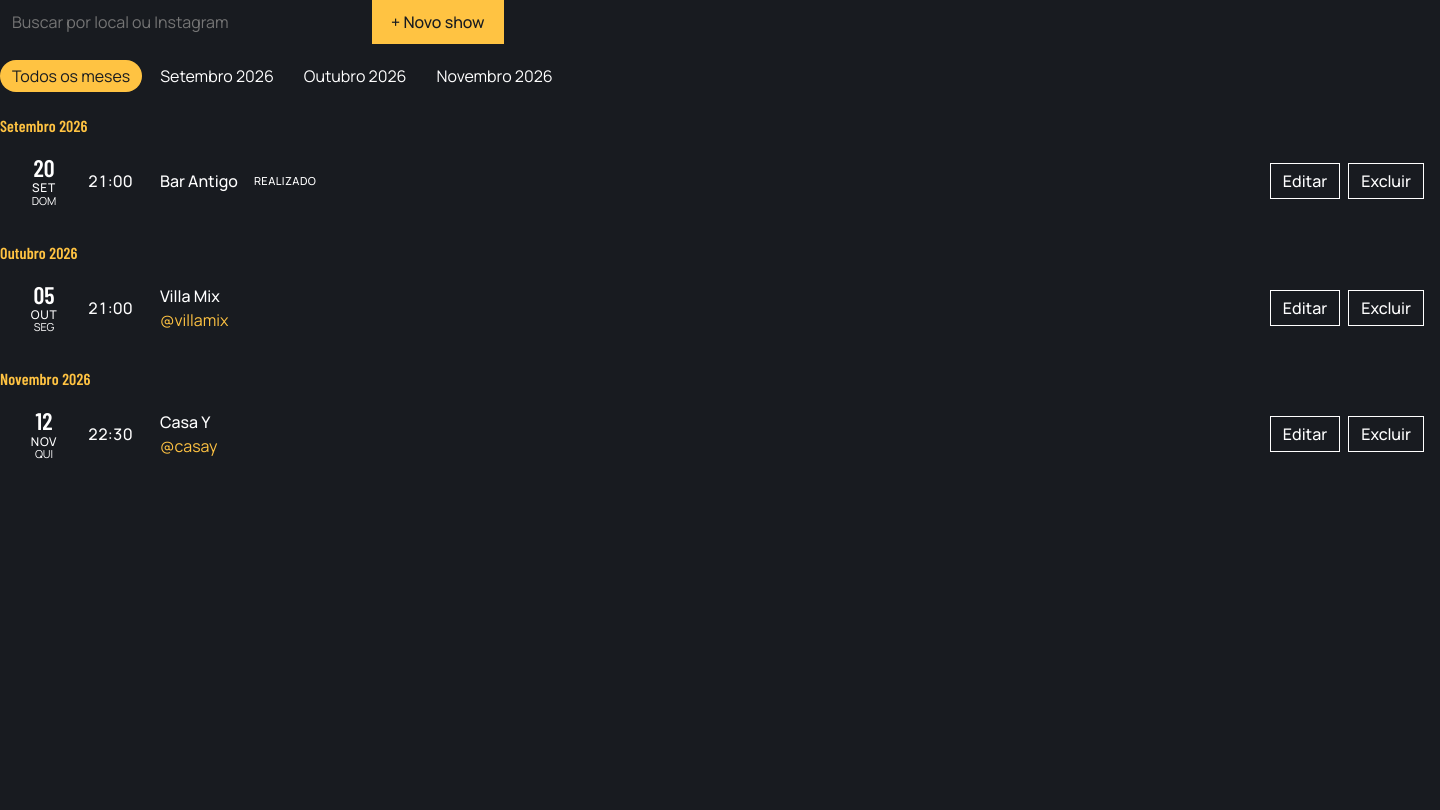
operações › excluir: pede confirmação antes; só exclui ao confirmar
Click the button with aria-label "Excluir show de 05/10/2026 em Villa Mix": {"x": 1386, "y": 308} [1348,290,1424,326]
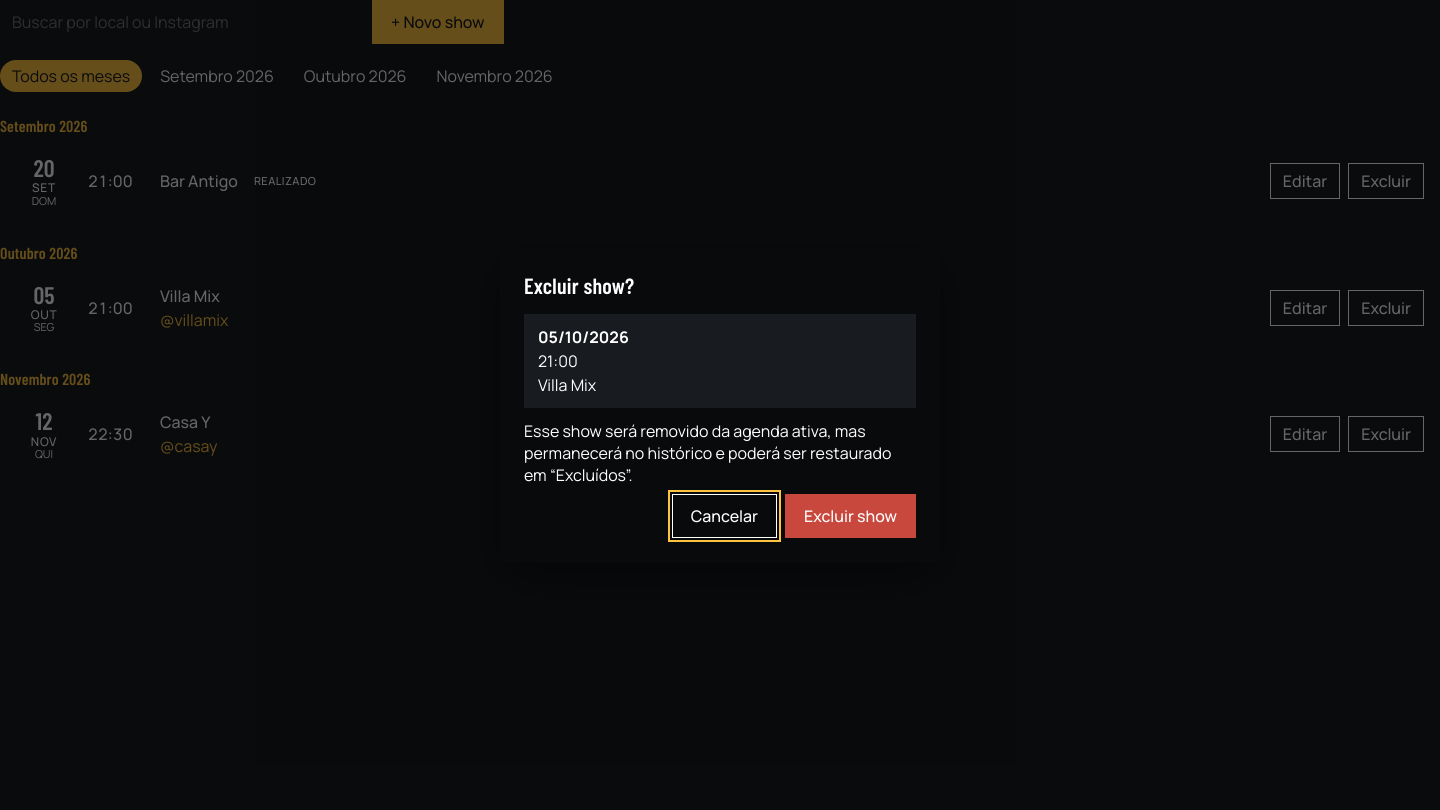
Result: the heading "Excluir show?" is shown at [524,272,634,298]
Result: the text "permanecerá no histórico" is shown at [524,420,892,486]
Click the button "Cancelar": {"x": 724, "y": 516} [672,494,777,538]
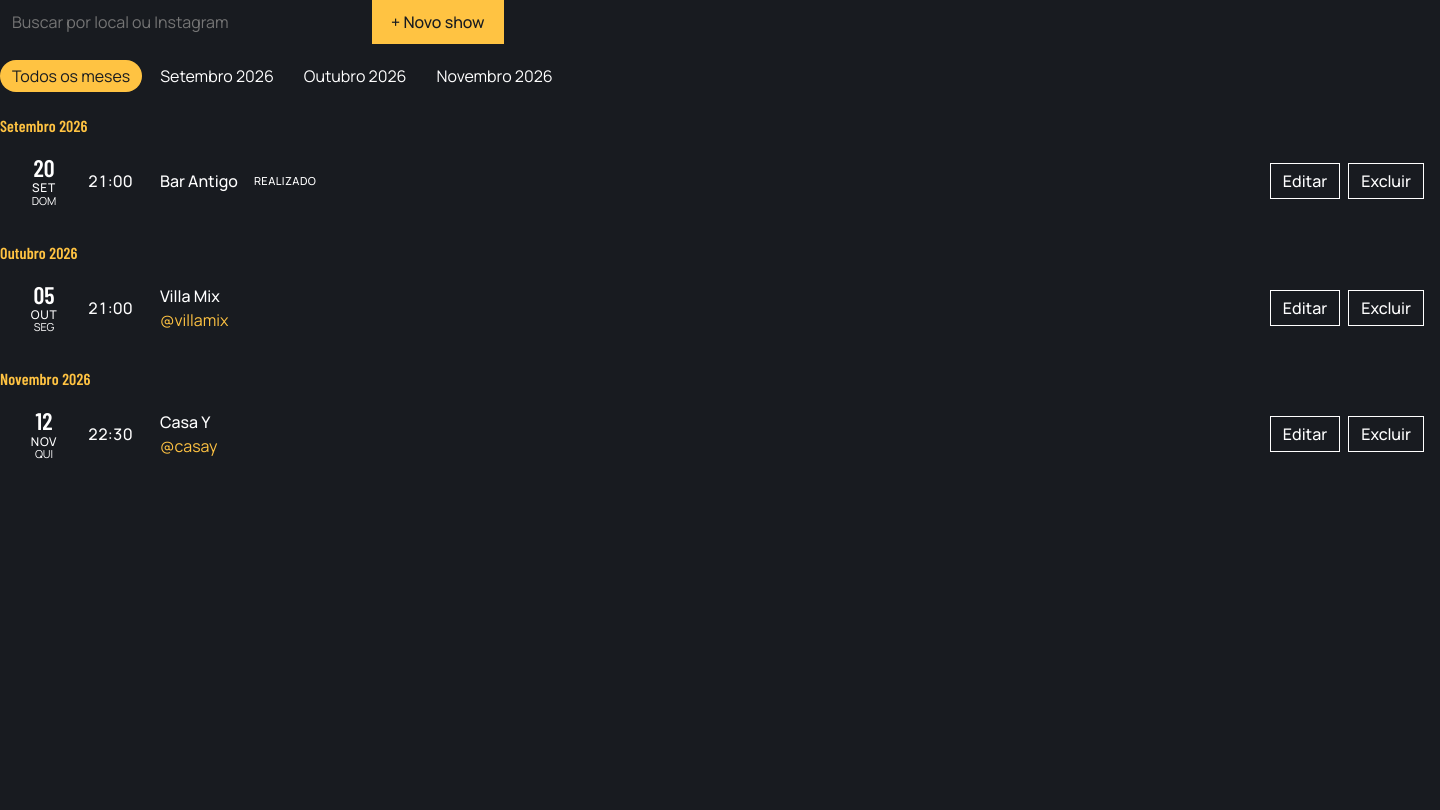
Click the button with aria-label "Excluir show de 05/10/2026 em Villa Mix": {"x": 1386, "y": 308} [1348,290,1424,326]
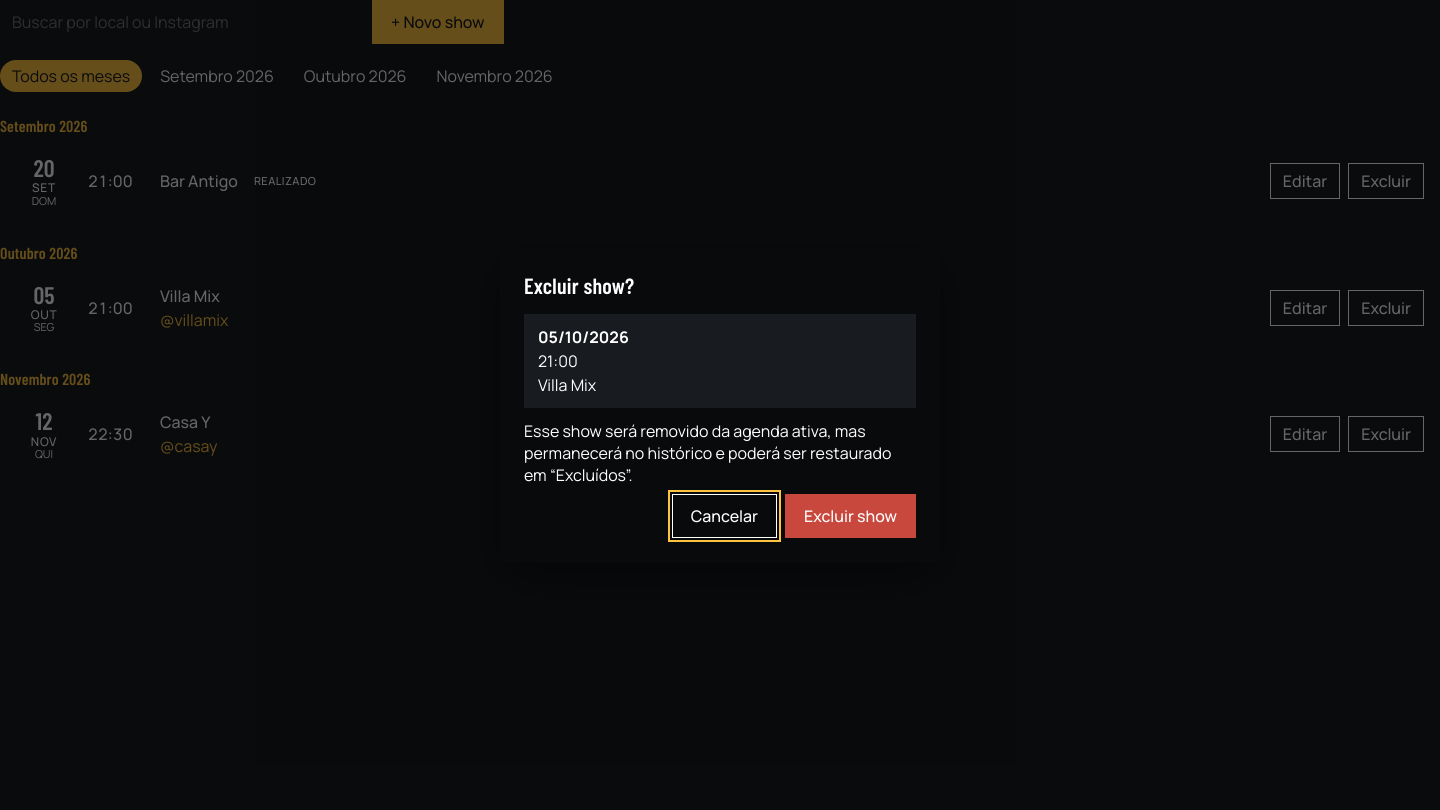
Click the button "Excluir show": {"x": 851, "y": 516} [785,494,916,538]
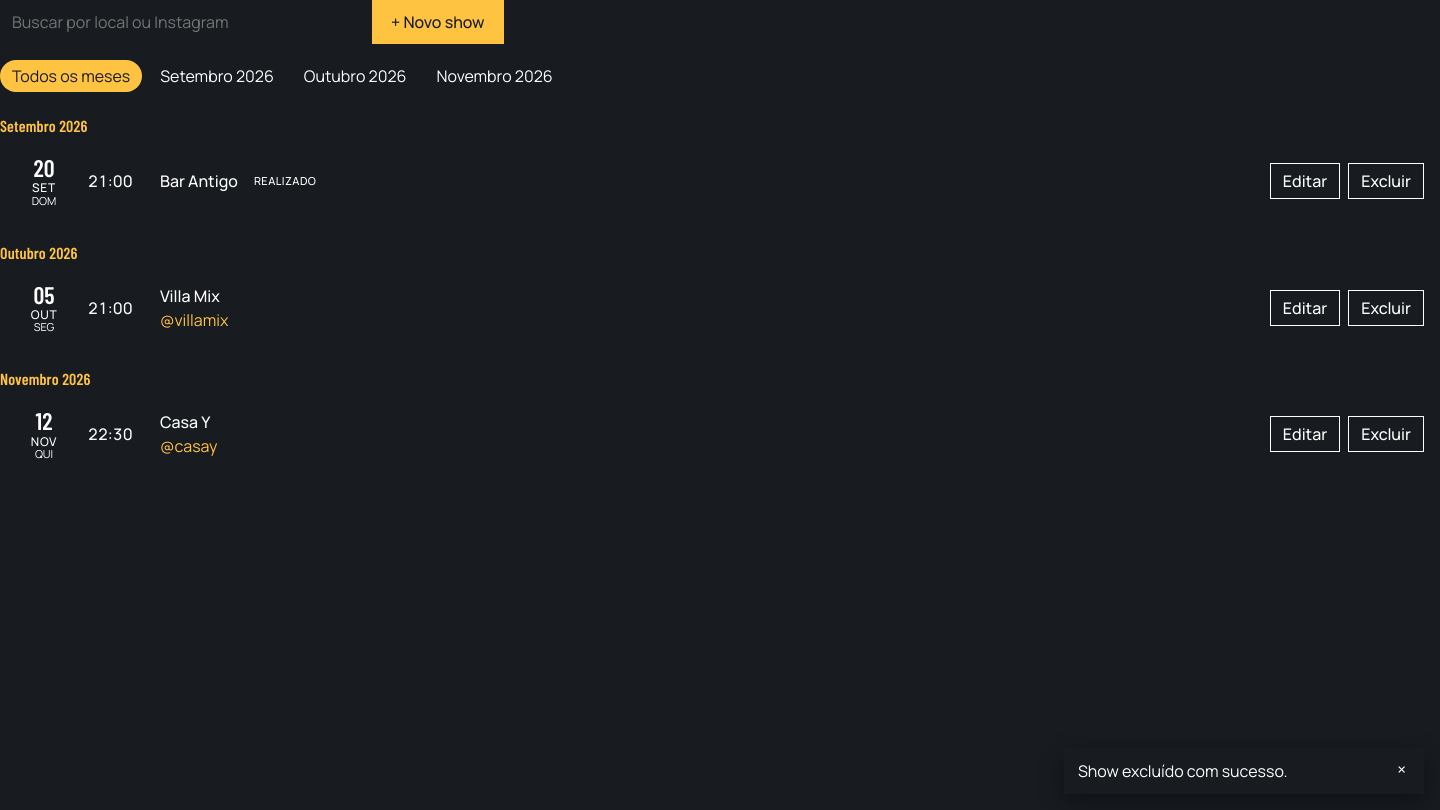
Result: the text "Show excluído com sucesso." is shown at [1078,760,1288,782]
